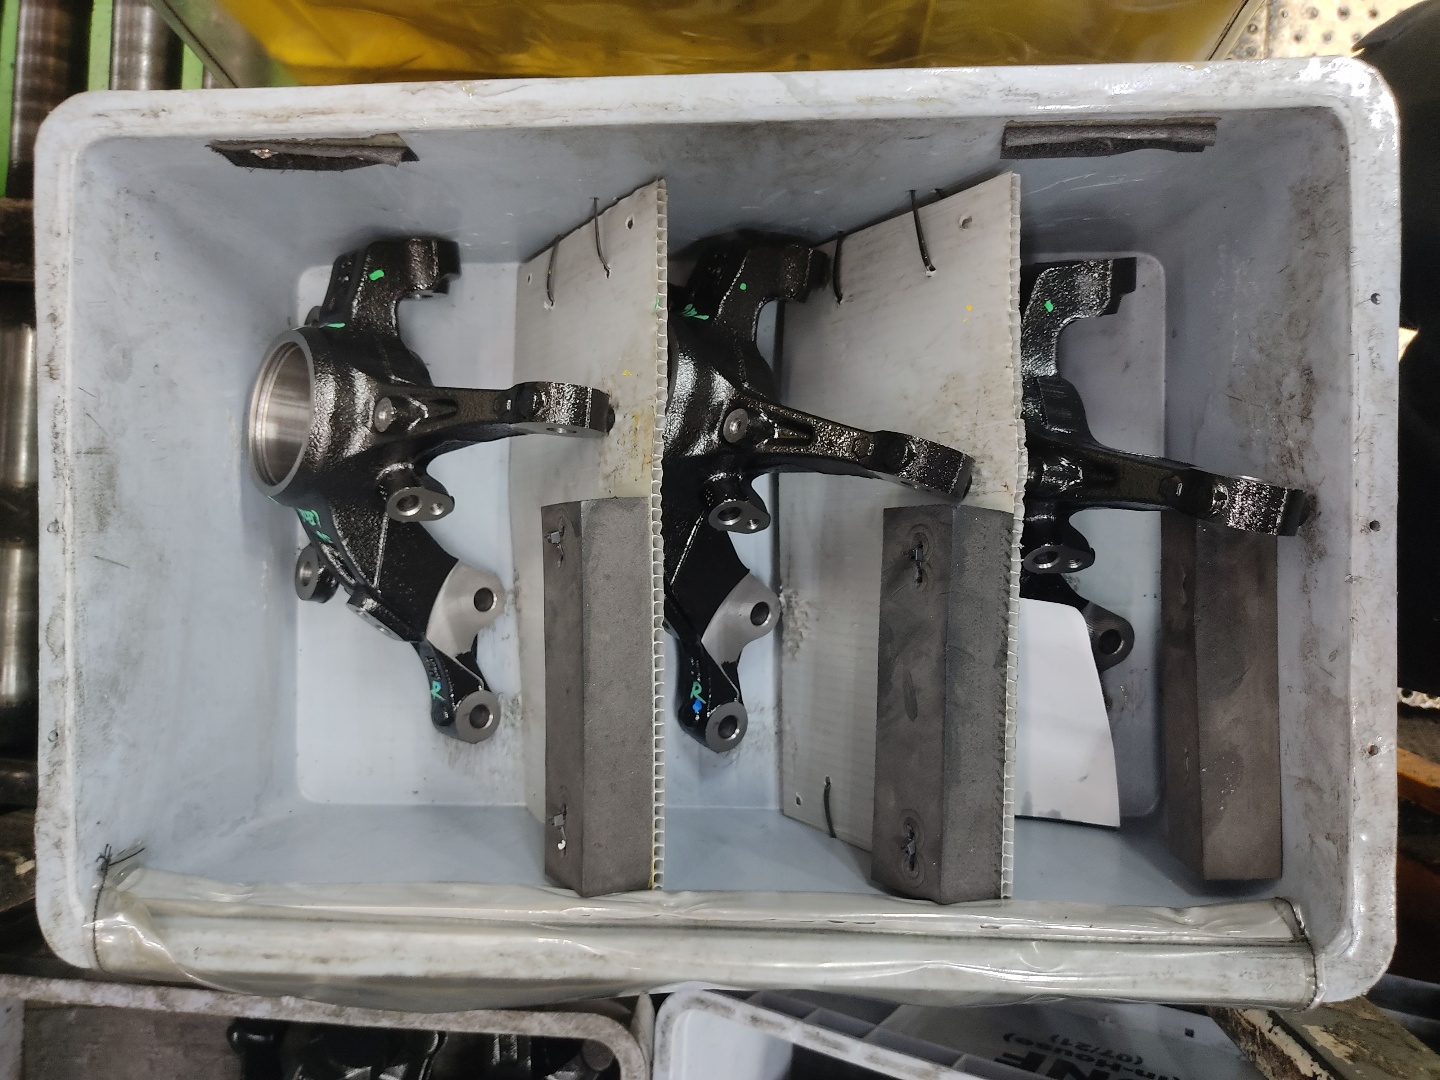abs-rh: (235, 223, 617, 752), (643, 214, 982, 763), (1003, 228, 1336, 781)
